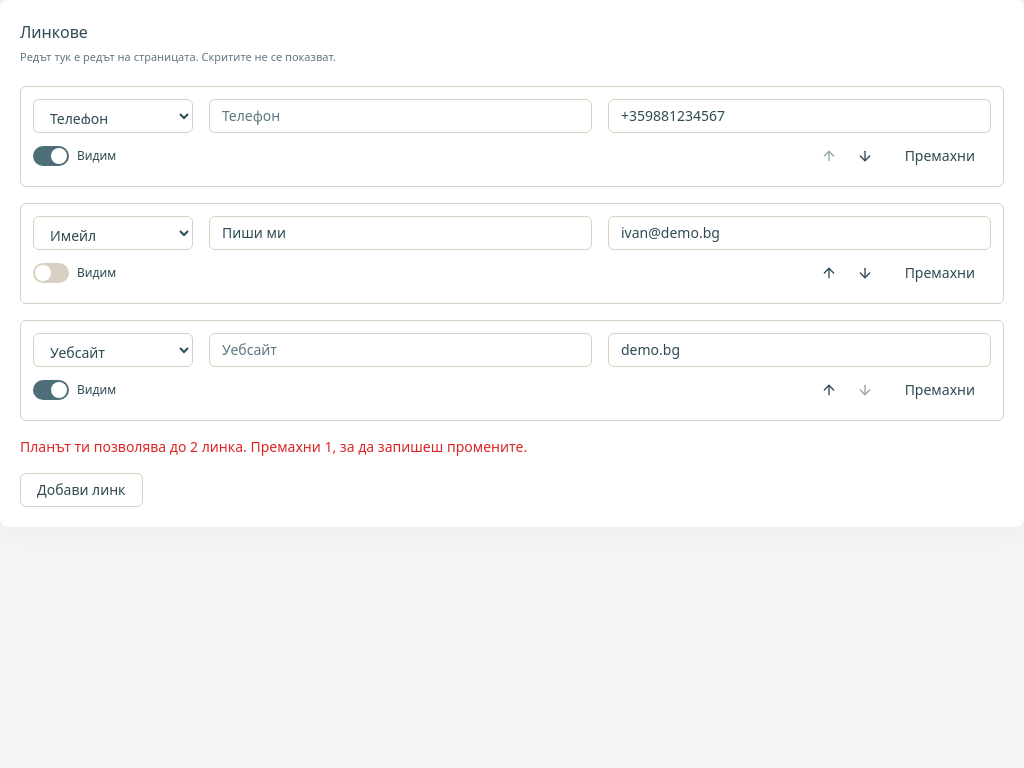
LinksFields › warns above the plan cap and clears once enough rows are removed
Expected: the message shows "Премахни 1", [20,436,527,456]
Click the 3rd button "Премахни".
click(940, 390)  # box [889,372,991,408]
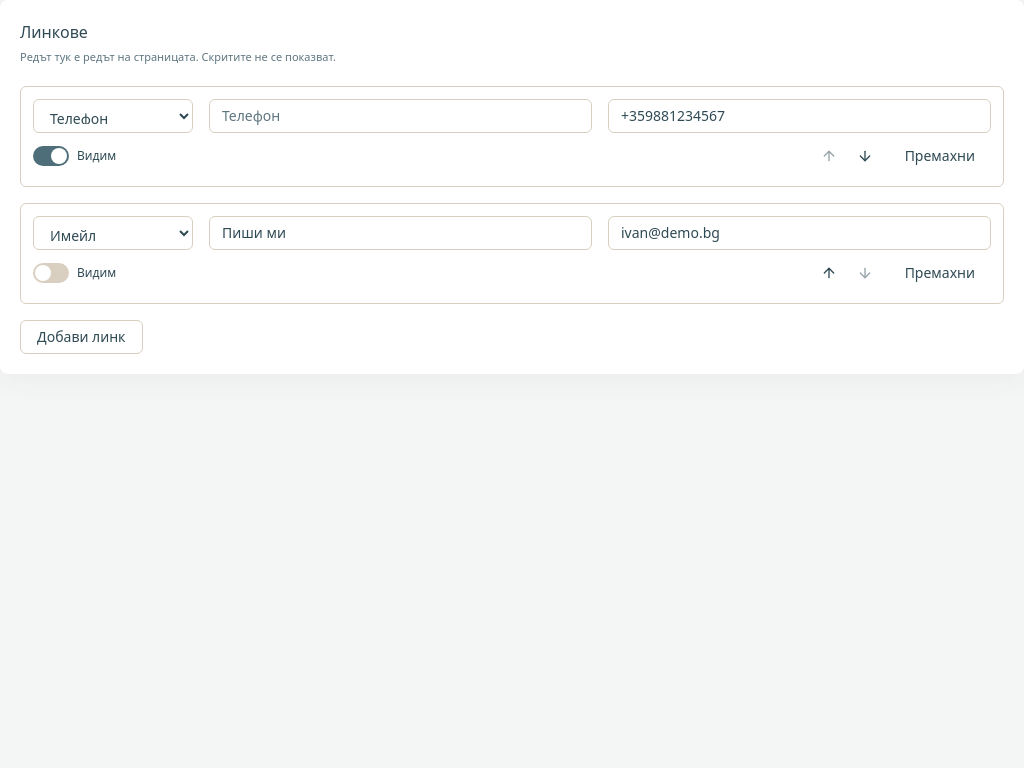
Expected: the message "Планът ти позволява до 2 линка. Премахни 1, за да запишеш промените." is gone
